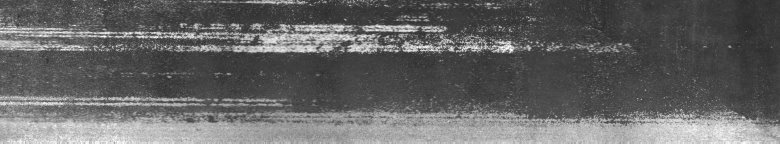kb: (4, 4, 758, 125)
